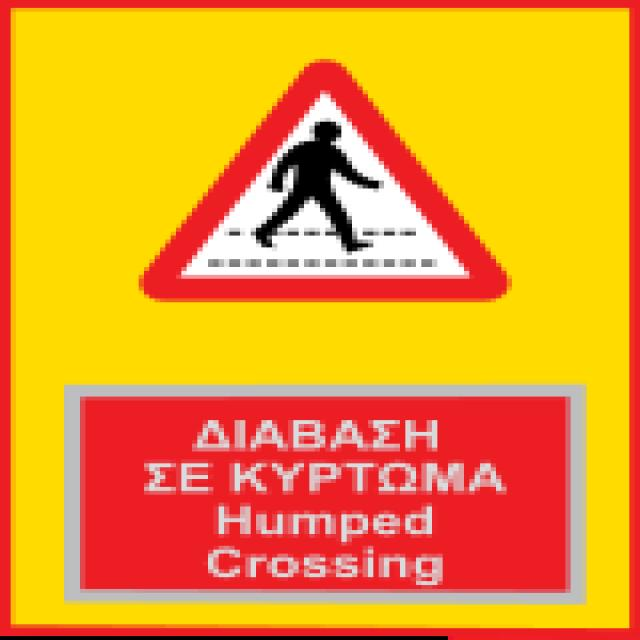Pedestrian crosswalk: (125, 34, 533, 324)
